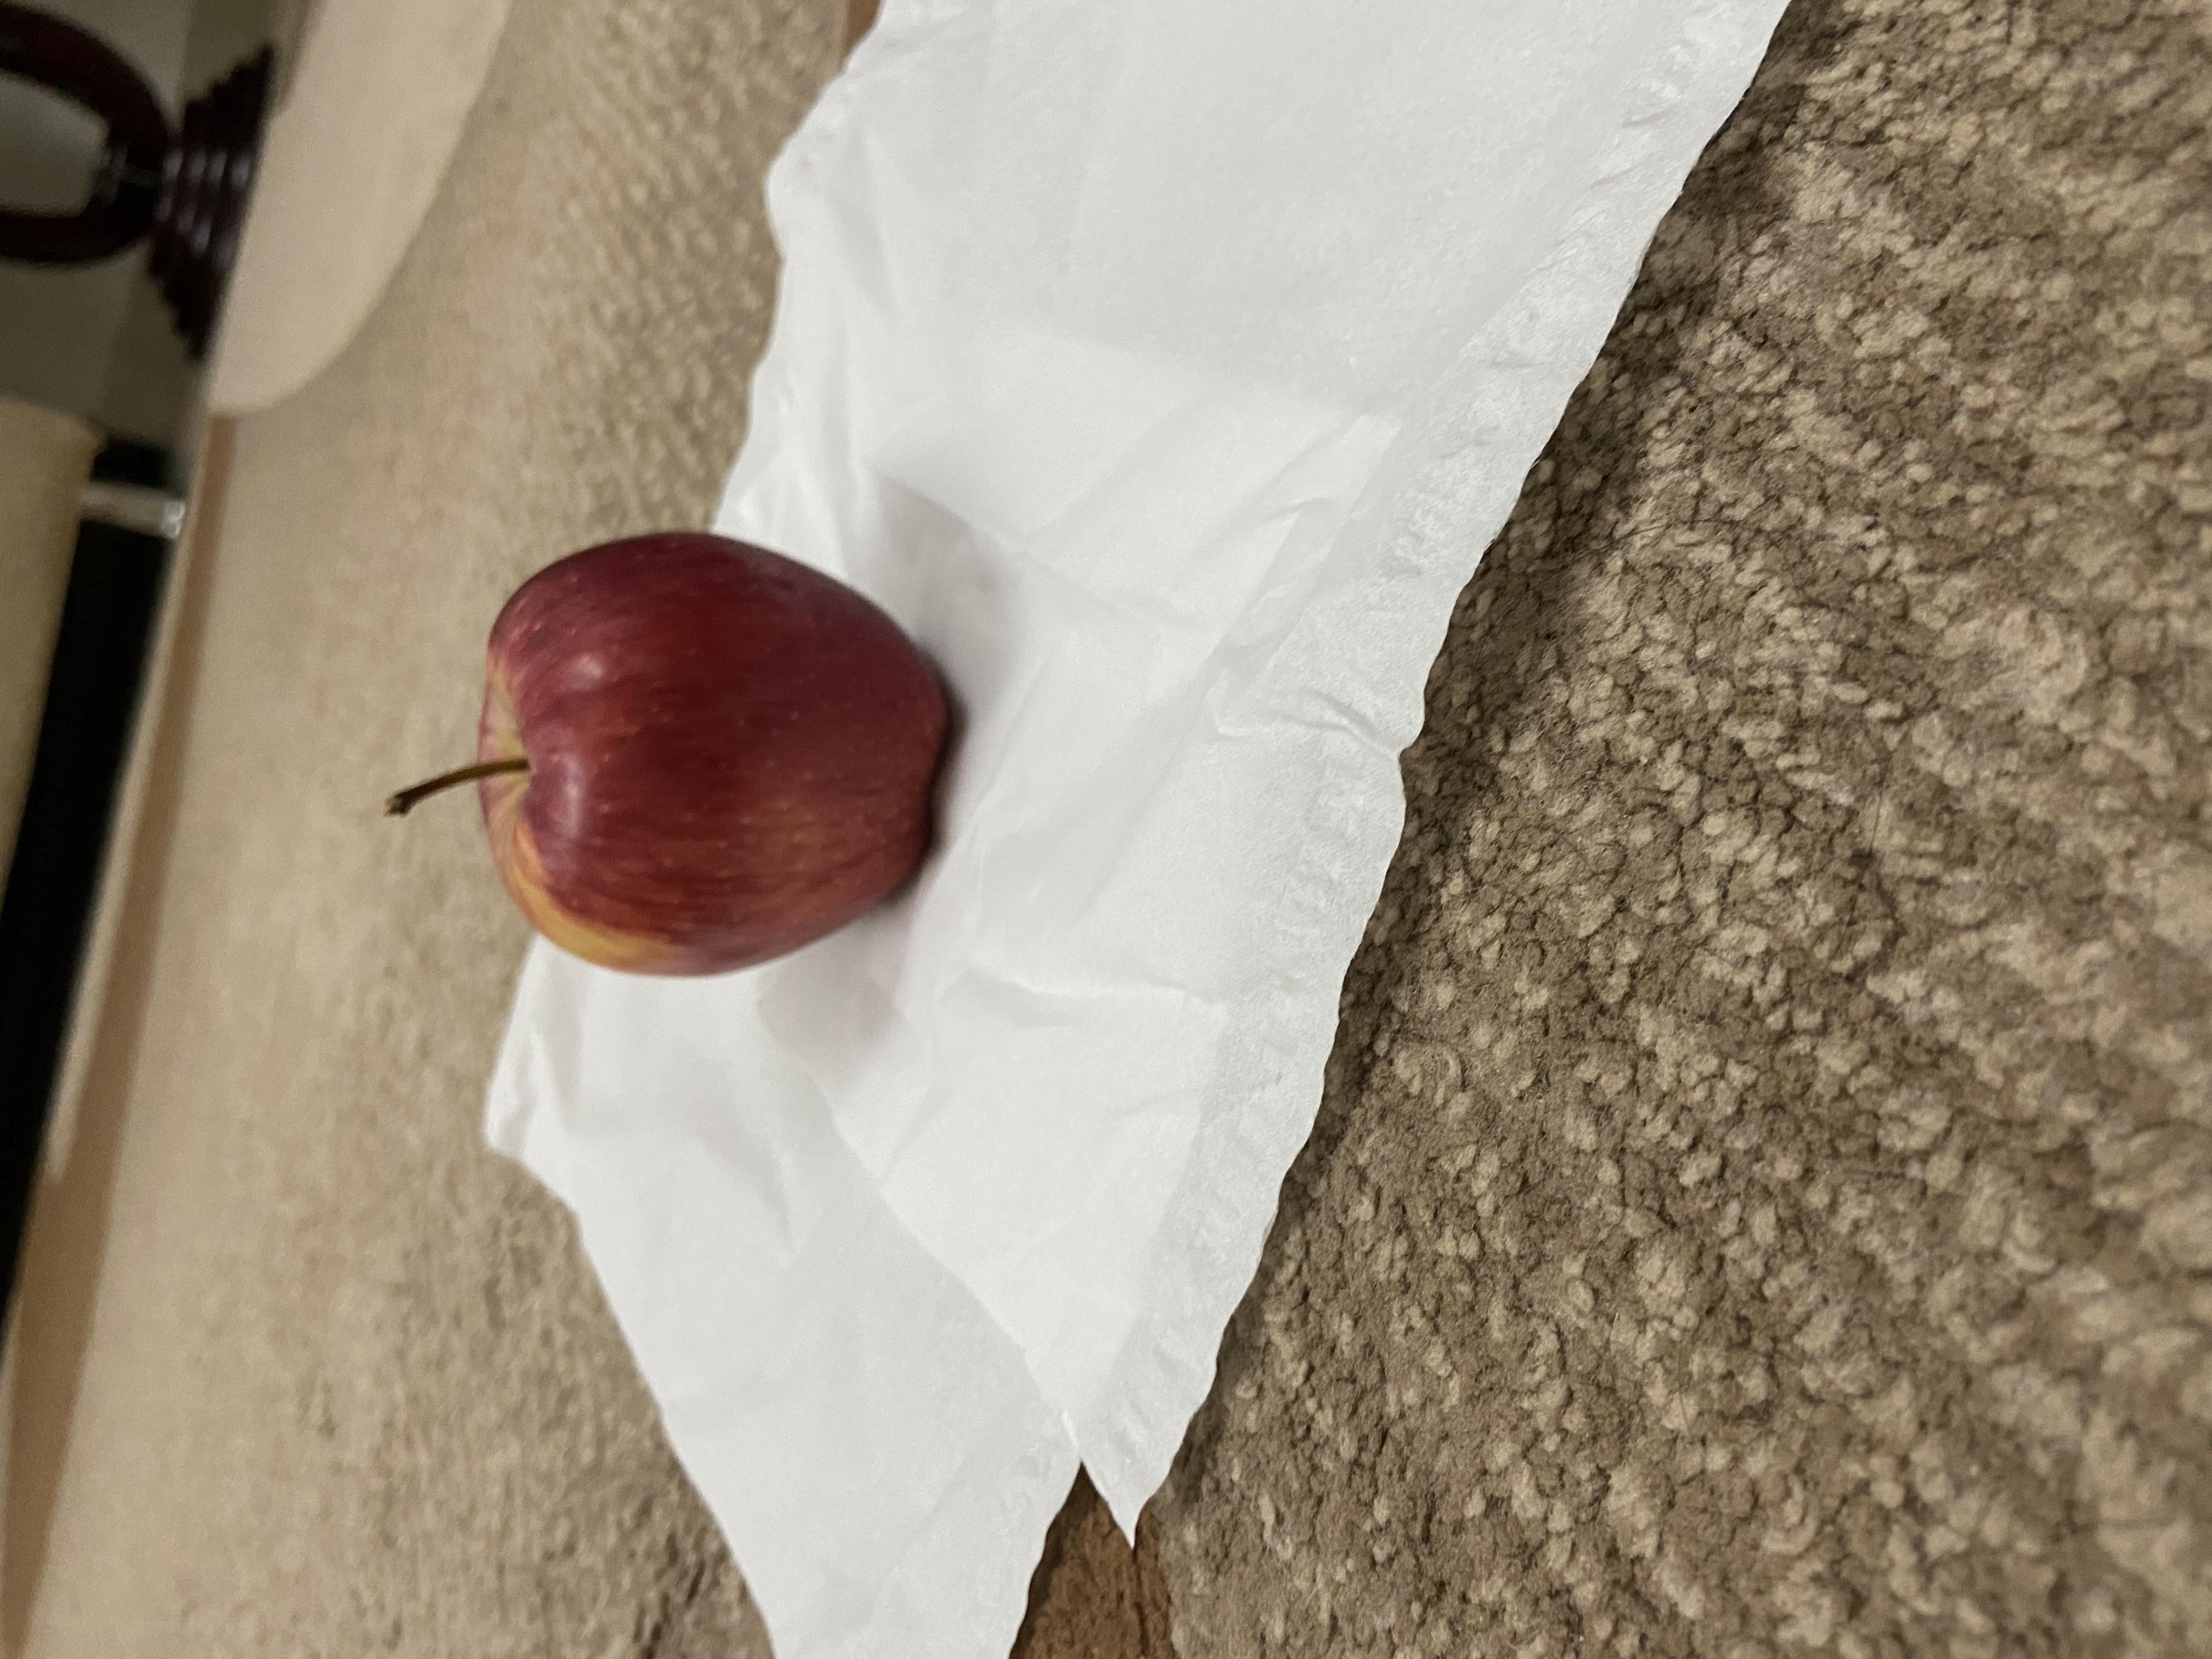Apple: (902, 281, 1508, 720)
